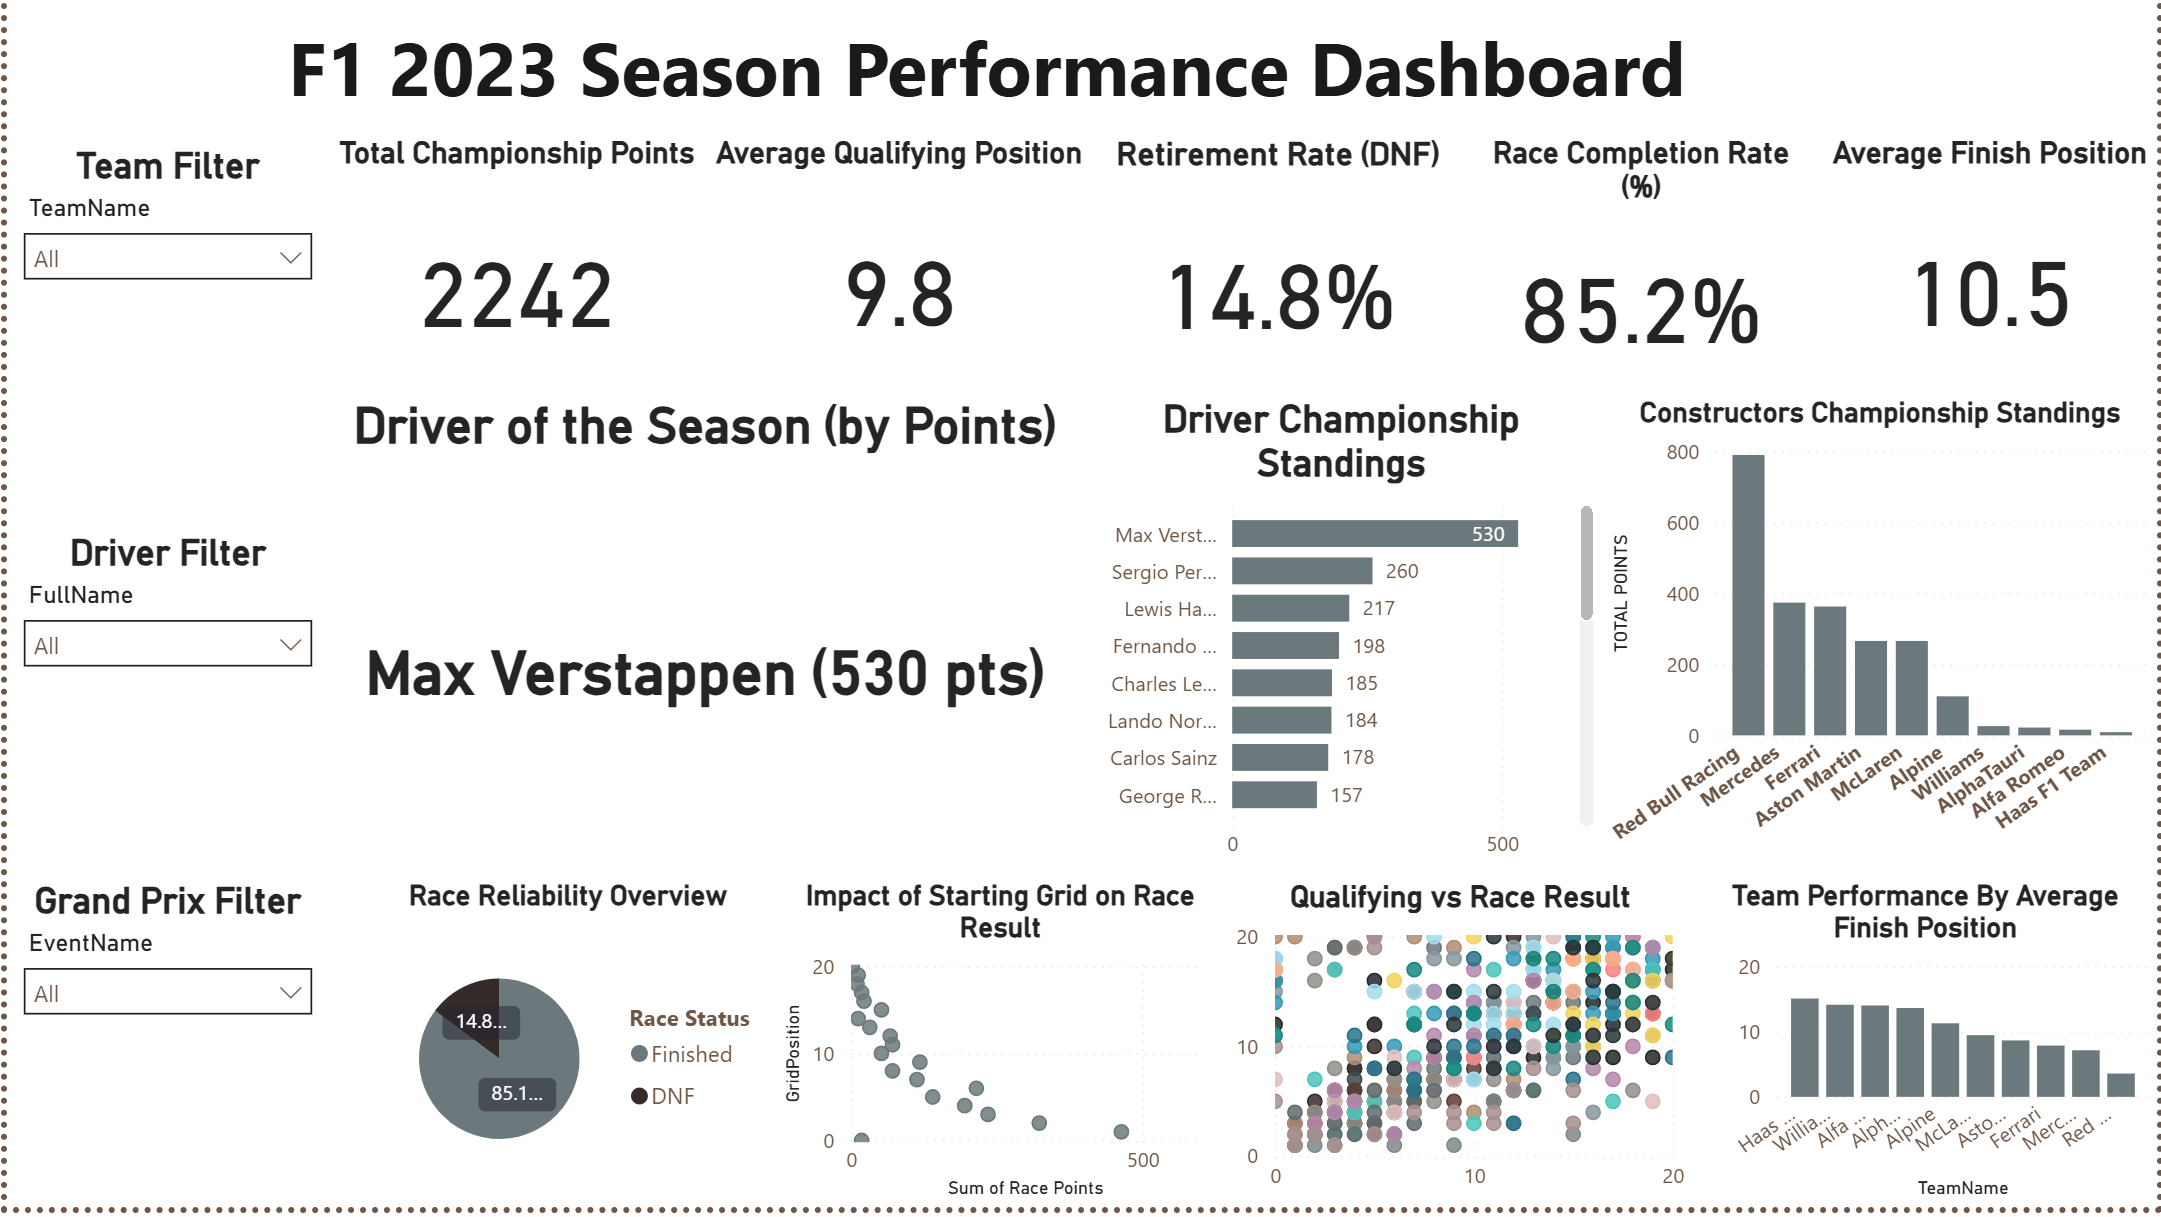

The page's visual inventory and layout, read from the dashboard file:
{"tool":"powerbi","page":{"name":"Page 1","canvas":[1280,720],"ordinal":0},"visuals":[{"type":"card","title":"Total Championship Points","fields":{"Values":["2023 FORMULA 1 SEASON.TOTAL POINTS"]},"box":[191.7,81.7,225,156.7],"z":0},{"type":"card","title":"Average Qualifying Position","fields":{"Values":["2023 FORMULA 1 SEASON.AVERAGE GRID POSITION"]},"box":[416.7,81.7,230,155],"z":1000},{"type":"card","title":"Average Finish Position","fields":{"Values":["2023 FORMULA 1 SEASON.AVERAGE FINISH POSITION"]},"box":[1080,81.7,200,155],"z":2000},{"type":"card","title":"Race Completion Rate (%)","fields":{"Values":["2023 FORMULA 1 SEASON.FINISH RATE"]},"box":[866.7,81.7,213.3,155],"z":3000},{"type":"pieChart","title":"Race Reliability Overview","fields":{"Category":["2023 FORMULA 1 SEASON.Race Status"],"Y":["CountNonNull(2023 FORMULA 1 SEASON.FullName)"]},"box":[210,525,246.7,195],"z":4000},{"type":"slicer","title":"Team Filter","fields":{"Values":["2023 FORMULA 1 SEASON.TeamName"]},"box":[0,88.3,191.7,215],"z":5000},{"type":"slicer","title":"Driver Filter","fields":{"Values":["2023 FORMULA 1 SEASON.FullName"]},"box":[0,318.3,191.7,206.7],"z":6000},{"type":"slicer","title":"Grand Prix Filter","fields":{"Values":["2023 FORMULA 1 SEASON.EventName"]},"box":[0,525,191.7,195],"z":7000},{"type":"barChart","title":"Driver Championship Standings","fields":{"Category":["2023 FORMULA 1 SEASON.FullName"],"Y":["Sum(2023 FORMULA 1 SEASON.Race Points)"]},"box":[640,236.7,310,285],"z":8000},{"type":"scatterChart","title":"Qualifying vs  Race Result ","fields":{"X":["2023 FORMULA 1 SEASON.GridPosition"],"Y":["2023 FORMULA 1 SEASON.Race Result Position"],"Series":["2023 FORMULA 1 SEASON.FullName"]},"box":[726.7,525,276.7,195],"z":9000},{"type":"card","title":"Retirement Rate (DNF)","fields":{"Values":["2023 FORMULA 1 SEASON.DNF RATE"]},"box":[646.7,81.7,220,156.7],"z":10000},{"type":"lineStackedColumnComboChart","title":"Constructors Championship Standings","fields":{"Category":["2023 FORMULA 1 SEASON.TeamName"],"Y":["2023 FORMULA 1 SEASON.TOTAL POINTS"]},"box":[950,238.3,330,285],"z":11000},{"type":"columnChart","title":"Team Performance By Average Finish Position","fields":{"Category":["2023 FORMULA 1 SEASON.TeamName"],"Y":["2023 FORMULA 1 SEASON.AVERAGE FINISH POSITION"]},"box":[1003.3,525,276.7,195],"z":12000},{"type":"scatterChart","title":"Impact of Starting Grid on Race Result","fields":{"Y":["2023 FORMULA 1 SEASON.GridPosition"],"X":["Sum(2023 FORMULA 1 SEASON.Race Points)"]},"box":[456.7,525,268.3,195],"z":13000},{"type":"card","title":"Driver of the Season (by Points)","fields":{"Values":["2023 FORMULA 1 SEASON.TOP DRIVER POINTS"]},"box":[191.7,238.3,448.3,288.3],"z":14000},{"type":"shape","box":[110,0,945,81.7],"z":15000}]}

Visuals, with their boxes in screenshot pixels (x1, y1, x2, y2), scaled from the page's 1280x720 canvas onto the 2161x1217 screenshot:
"Total Championship Points" card: BBox(324, 138, 704, 403)
"Average Qualifying Position" card: BBox(704, 138, 1092, 400)
"Average Finish Position" card: BBox(1823, 138, 2160, 400)
"Race Completion Rate (%)" card: BBox(1463, 138, 1823, 400)
"Race Reliability Overview" pieChart: BBox(355, 887, 771, 1216)
"Team Filter" slicer: BBox(0, 149, 324, 513)
"Driver Filter" slicer: BBox(0, 538, 324, 887)
"Grand Prix Filter" slicer: BBox(0, 887, 324, 1216)
"Driver Championship Standings" barChart: BBox(1080, 400, 1604, 882)
"Qualifying vs  Race Result " scatterChart: BBox(1227, 887, 1694, 1216)
"Retirement Rate (DNF)" card: BBox(1092, 138, 1463, 403)
"Constructors Championship Standings" lineStackedColumnComboChart: BBox(1604, 403, 2160, 885)
"Team Performance By Average Finish Position" columnChart: BBox(1694, 887, 2160, 1216)
"Impact of Starting Grid on Race Result" scatterChart: BBox(771, 887, 1224, 1216)
"Driver of the Season (by Points)" card: BBox(324, 403, 1080, 890)
shape: BBox(186, 0, 1781, 138)
